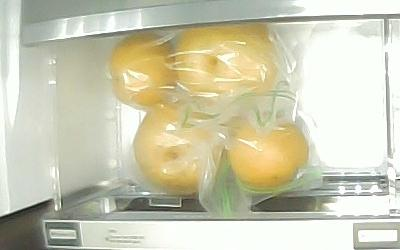pear_vinyl: (174, 23, 279, 102), (133, 100, 214, 197), (228, 122, 308, 188), (110, 33, 177, 107)
